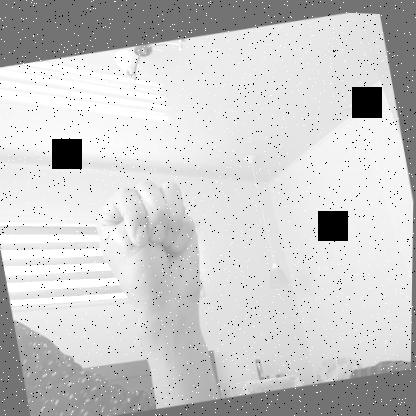M: (83, 169, 213, 324)
